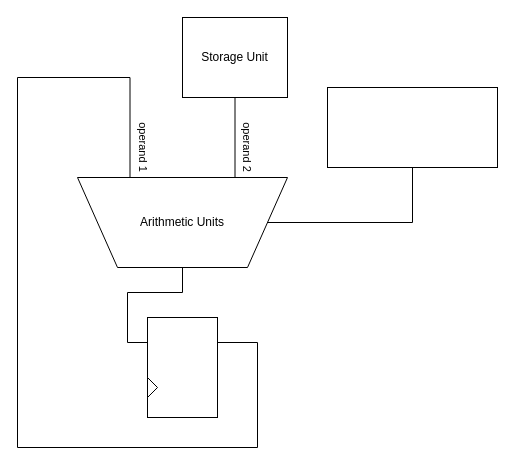
Some shapes in this 515 by 466 pixel diagram are drawn without their labels. The centre of each missing label's shape, as x and y in pixels:
"Accumulator Register" belongs at (x=182, y=367).
"Control Units" belongs at (x=412, y=127).
